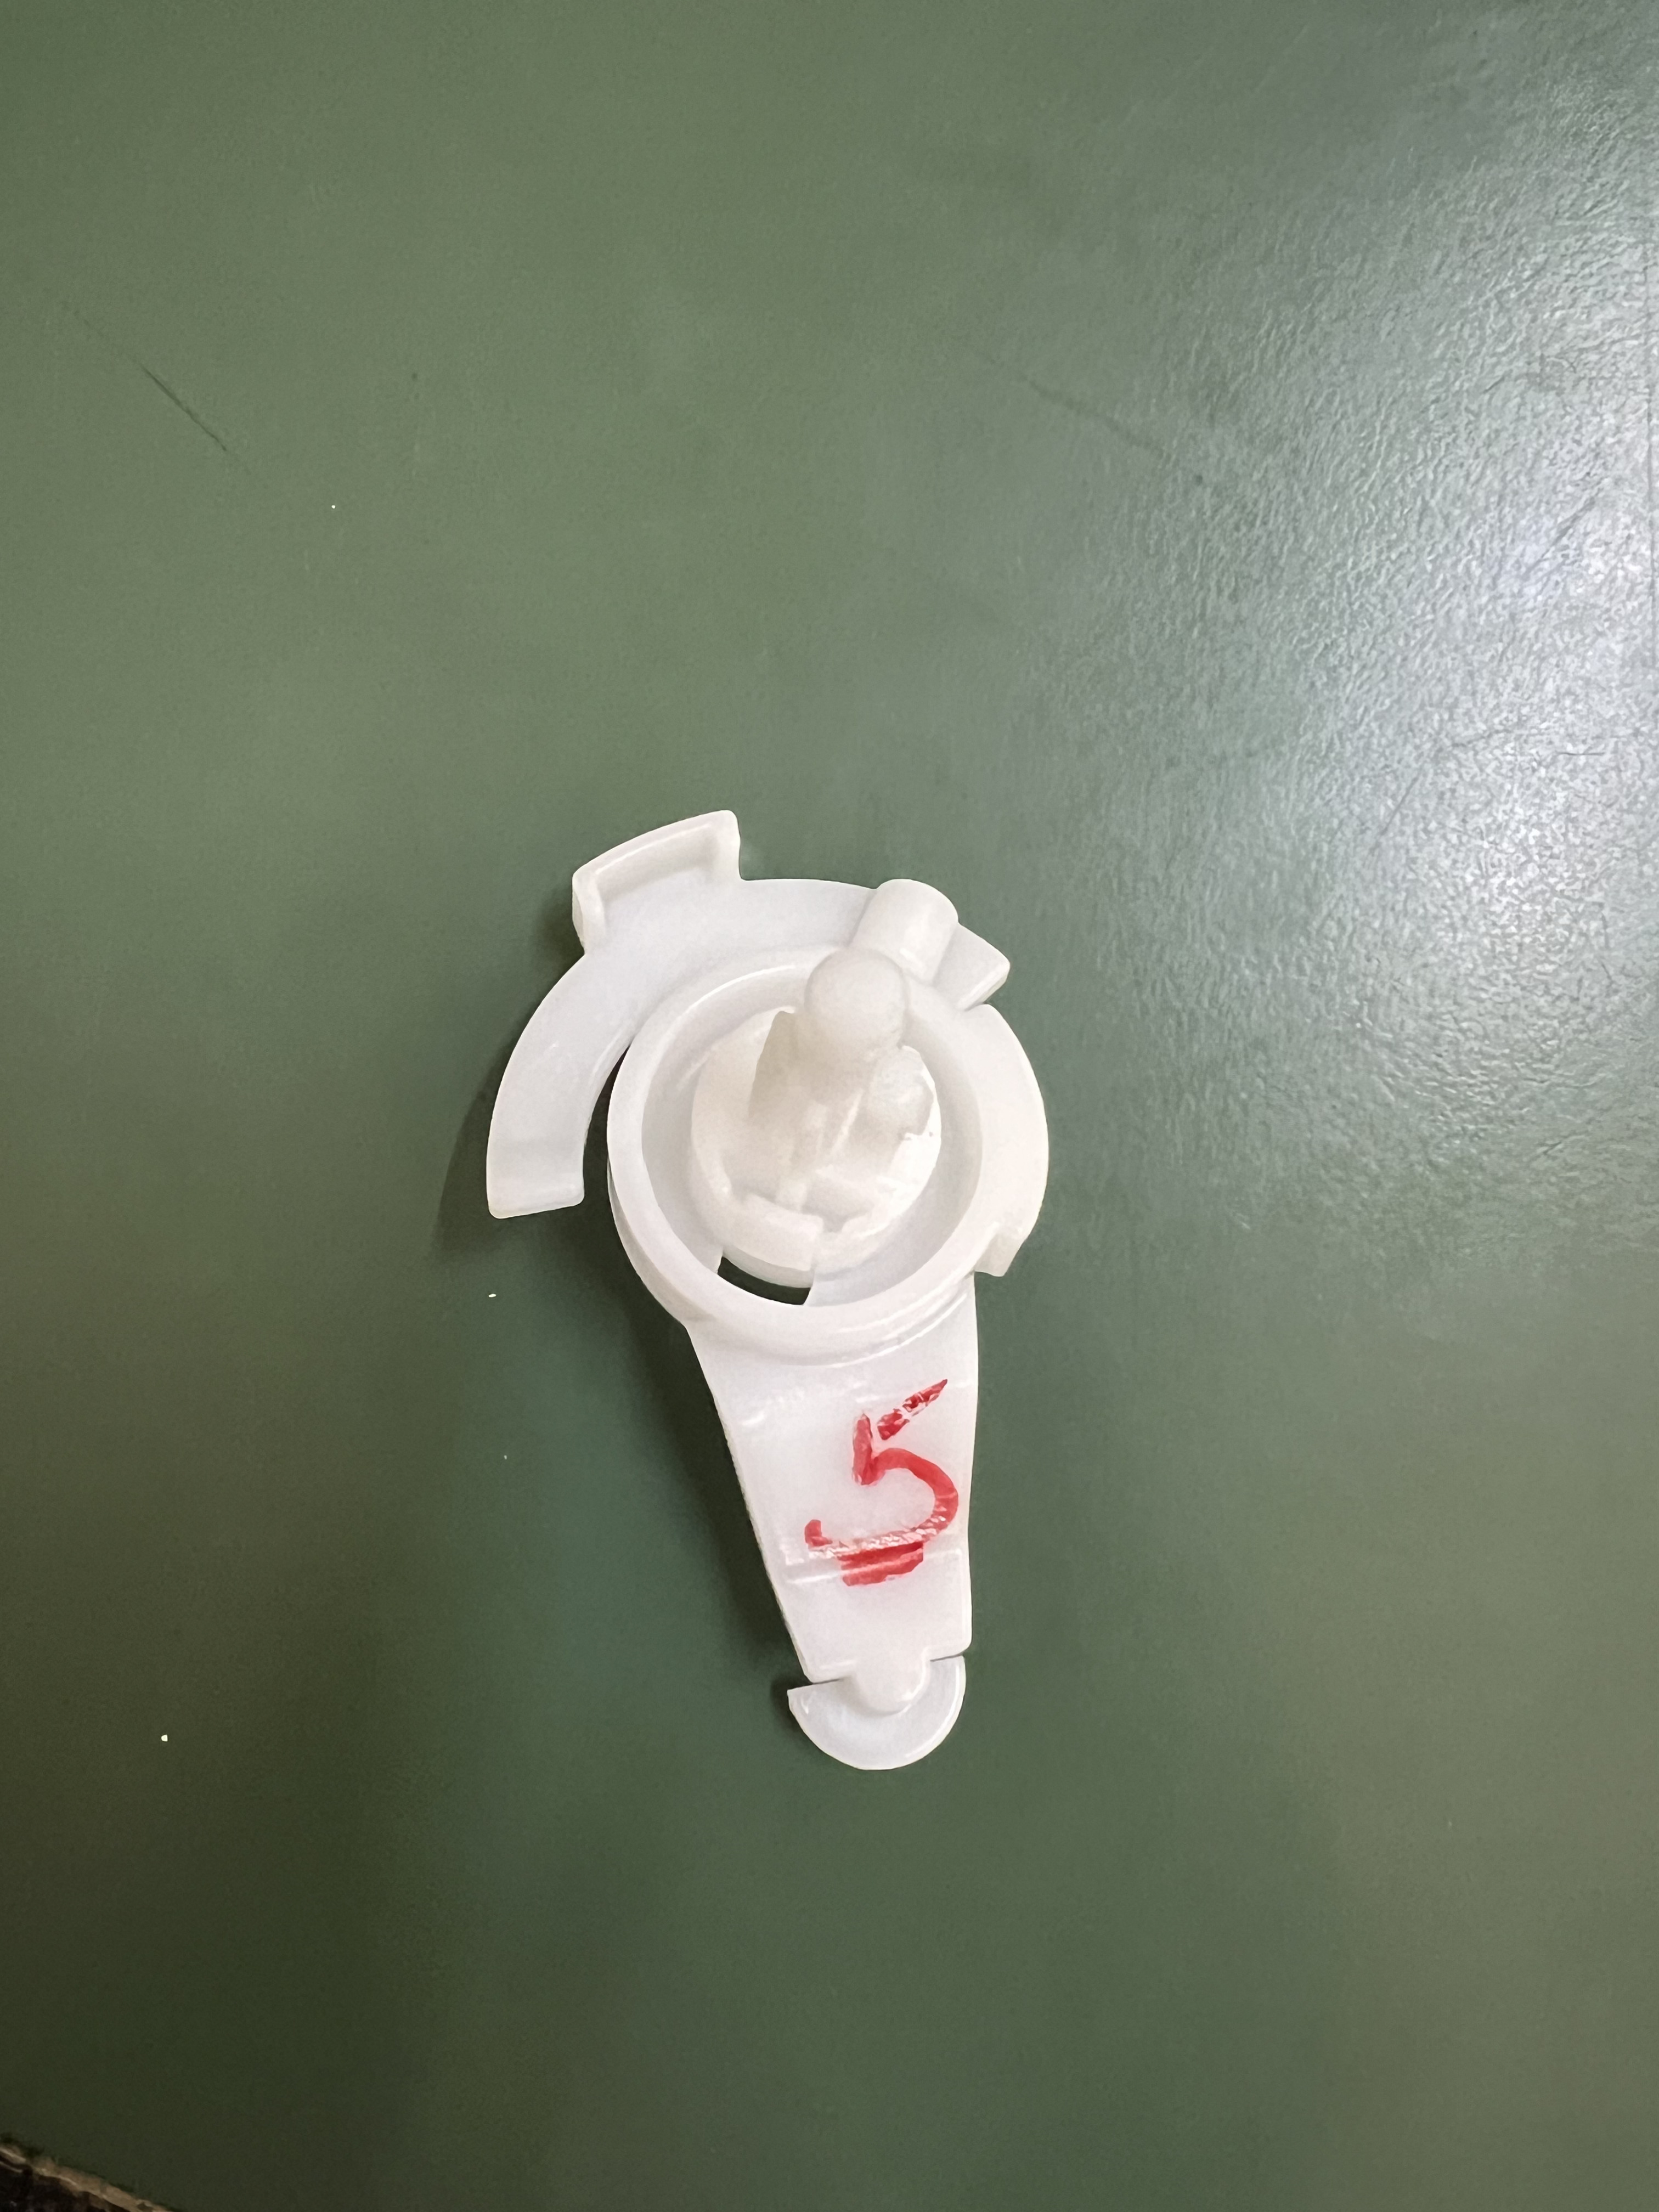drain_lever: (450, 819, 1089, 1797)
